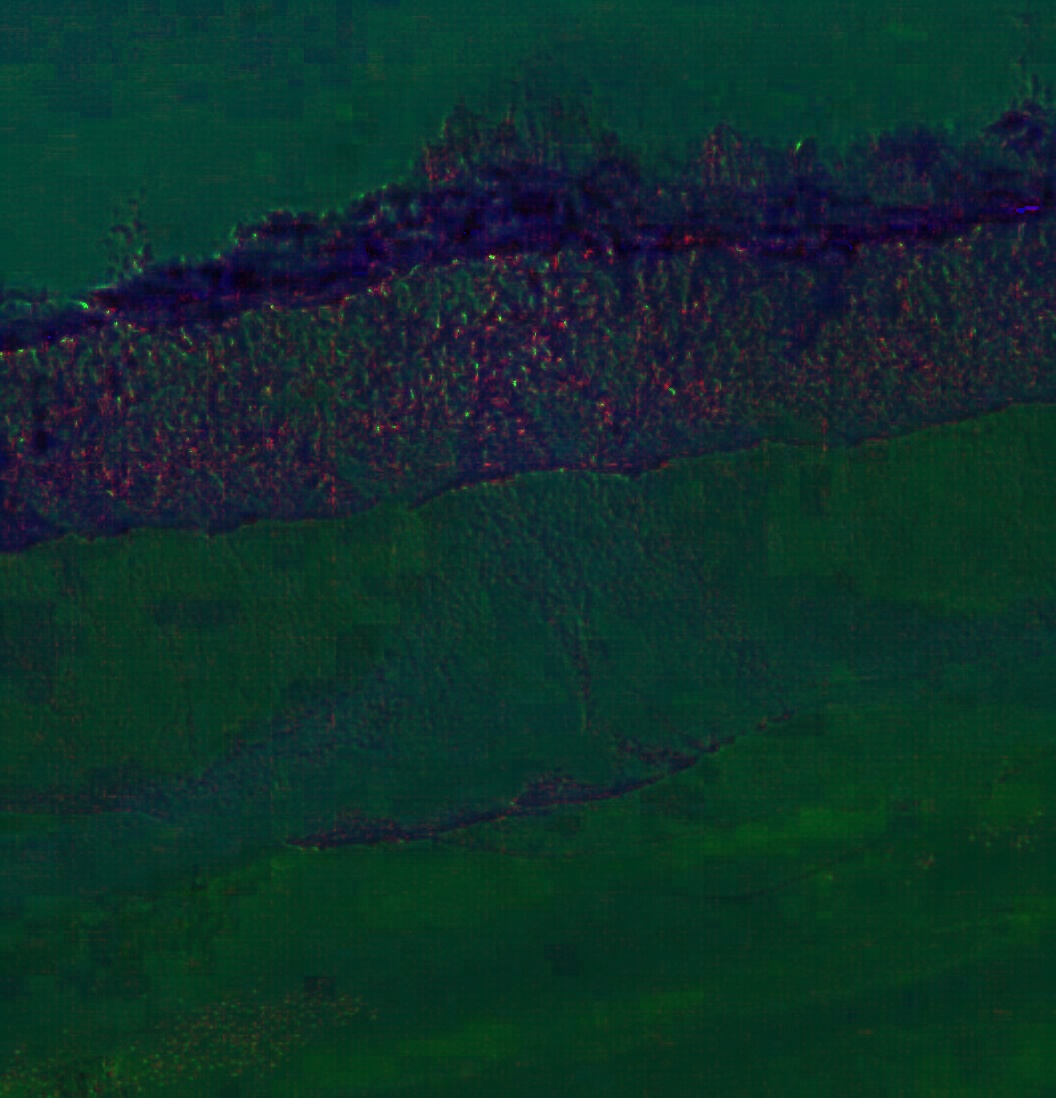rip_current: (307, 38, 775, 780)
